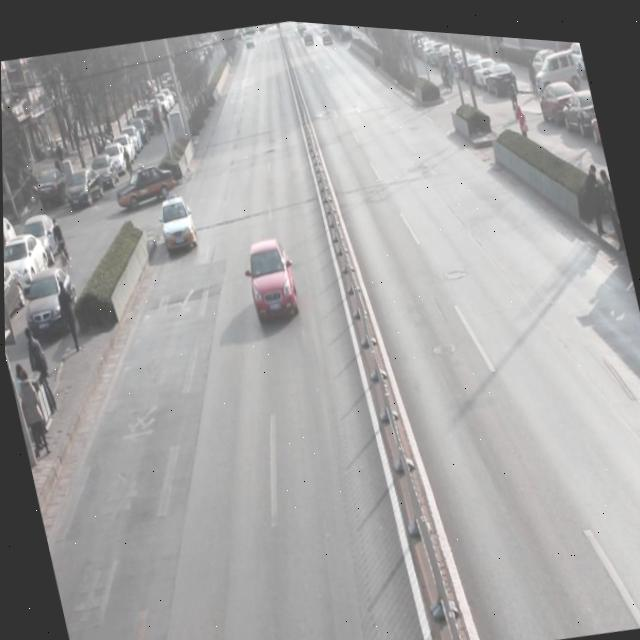car: (236, 227, 303, 325), (154, 186, 201, 258)
